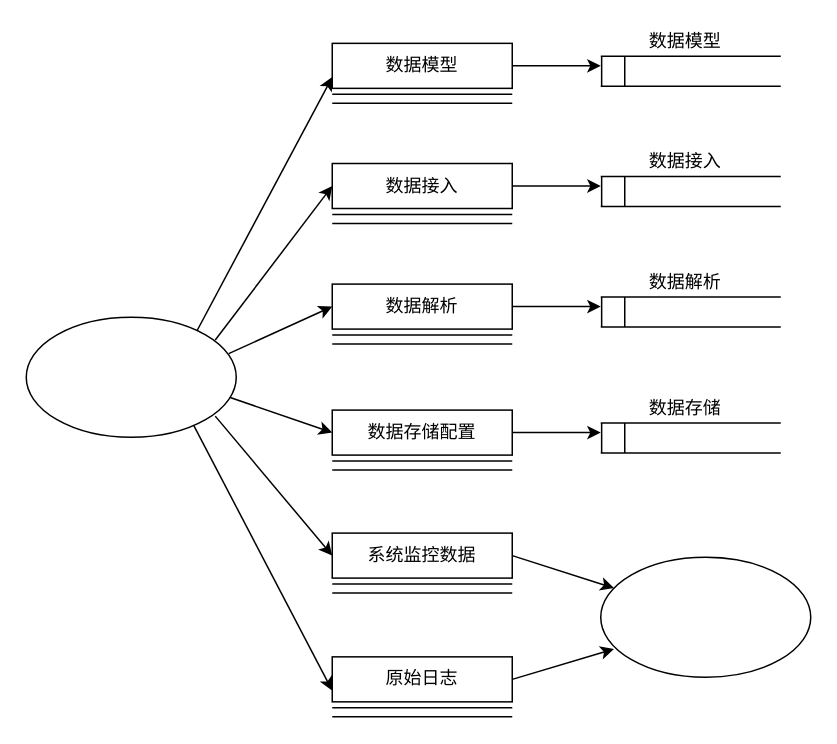
This 837x744 diagram has some shape labels left out. The box of each missing label's shape, as (x1, y1, x2, y2) in pixels:
数据接入中心: (25, 316, 236, 437)
追踪溯源中心: (599, 556, 811, 677)
